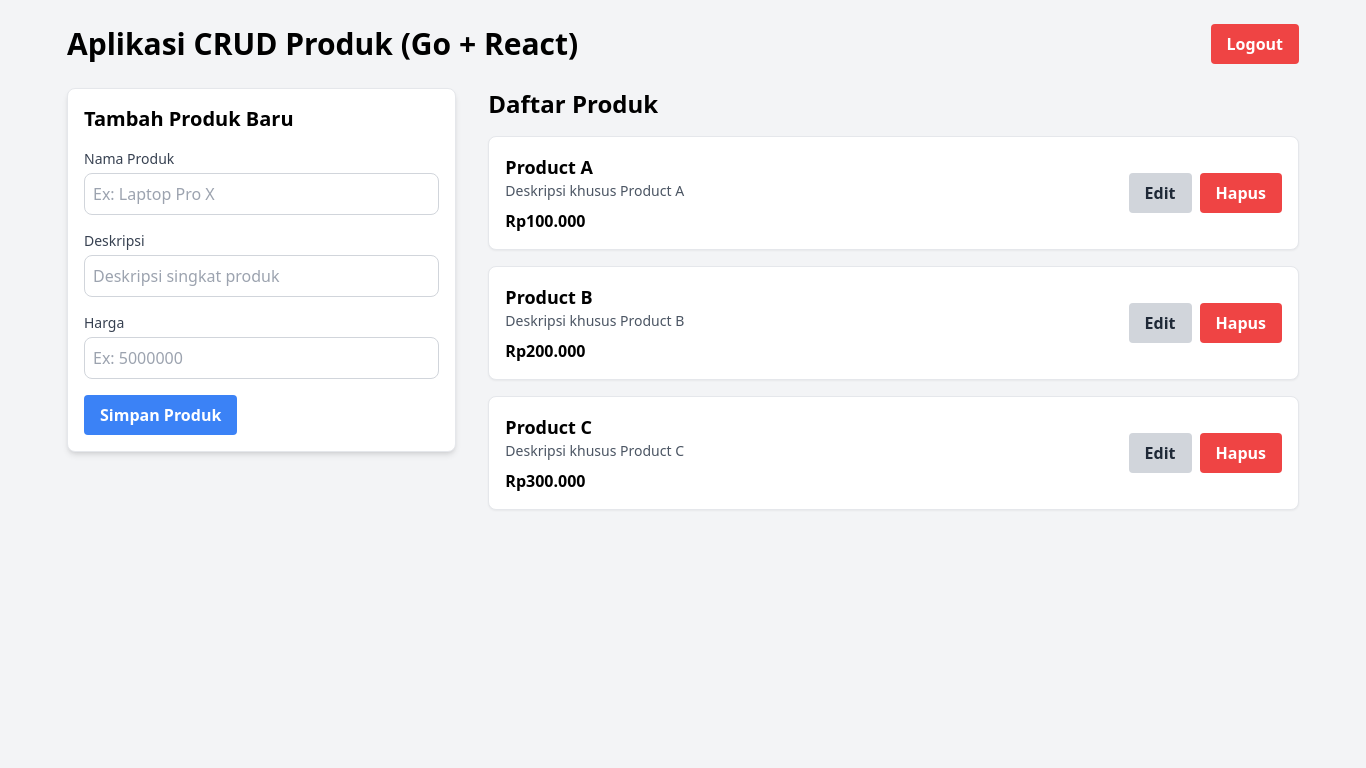
Test: ProductListPage Integration Test (Full CRUD) › should handle multiple products correctly
This screenshot has width=1366, height=768.
Expected: the heading "Product A" is shown, x1=505 y1=155 x2=593 y2=179
Expected: the heading "Product B" is shown, x1=505 y1=285 x2=593 y2=309
Tambah produk baru
Type "Product D" into the field labelled "Nama Produk" at x=262, y=194, box x1=84 y1=173 x2=439 y2=215
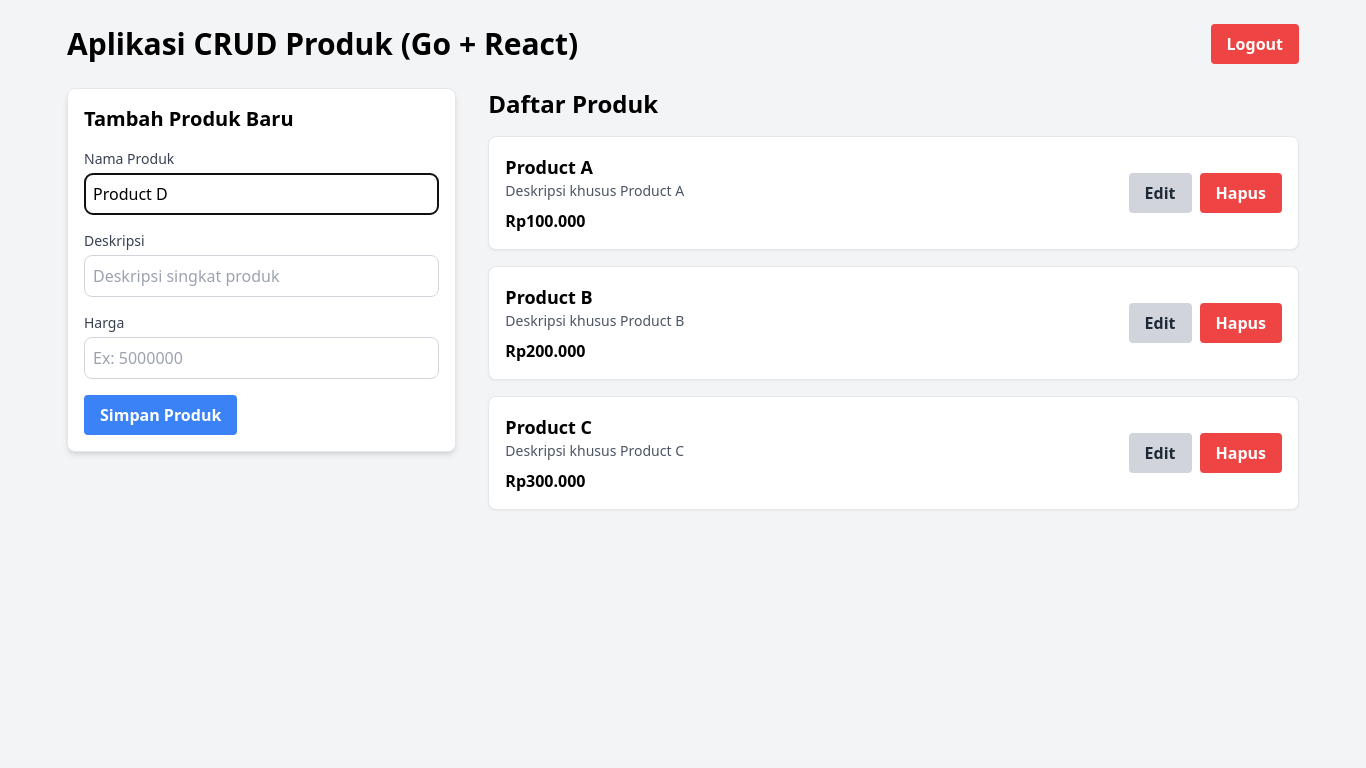
Type "New Product Description" into the field labelled "Deskripsi" at x=262, y=276, box x1=84 y1=255 x2=439 y2=297
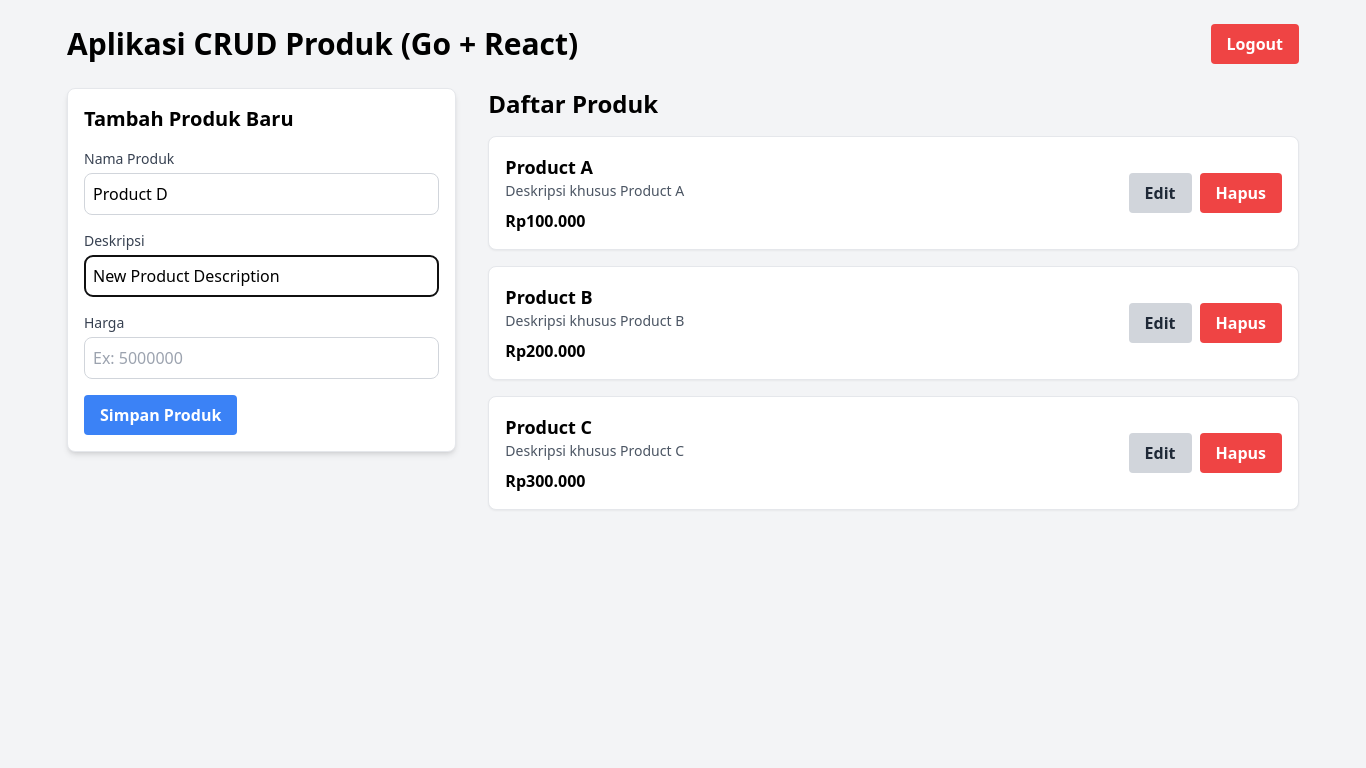
Type "400000" into the number field labelled "Harga" at x=262, y=358, box x1=84 y1=337 x2=439 y2=379
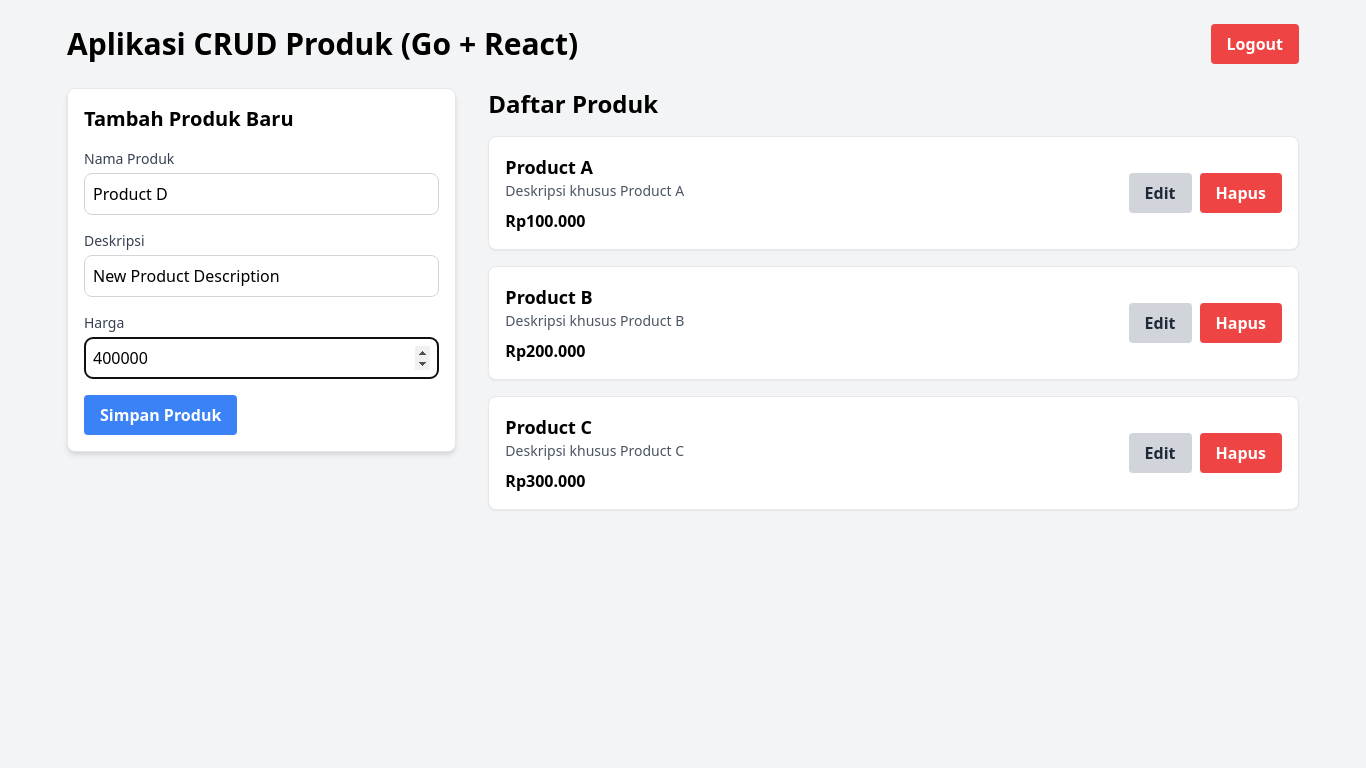
Click the button "Simpan Produk" at x=161, y=415, box x1=84 y1=395 x2=237 y2=435
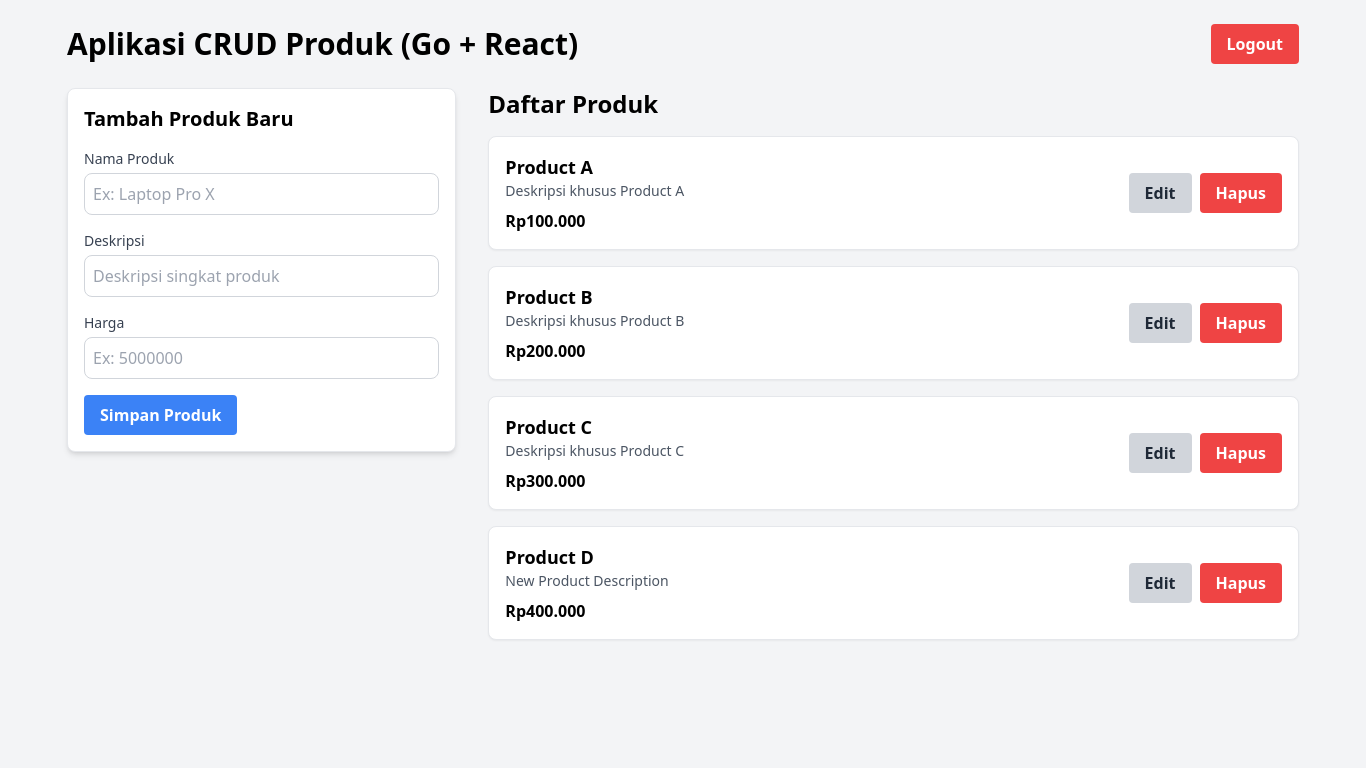
Result: the heading "Product D" is shown at x1=505 y1=545 x2=594 y2=569
Result: the text "New Product Description" is shown at x1=505 y1=571 x2=669 y2=591
Result: the text "Rp400.000" is shown at x1=505 y1=600 x2=586 y2=622
